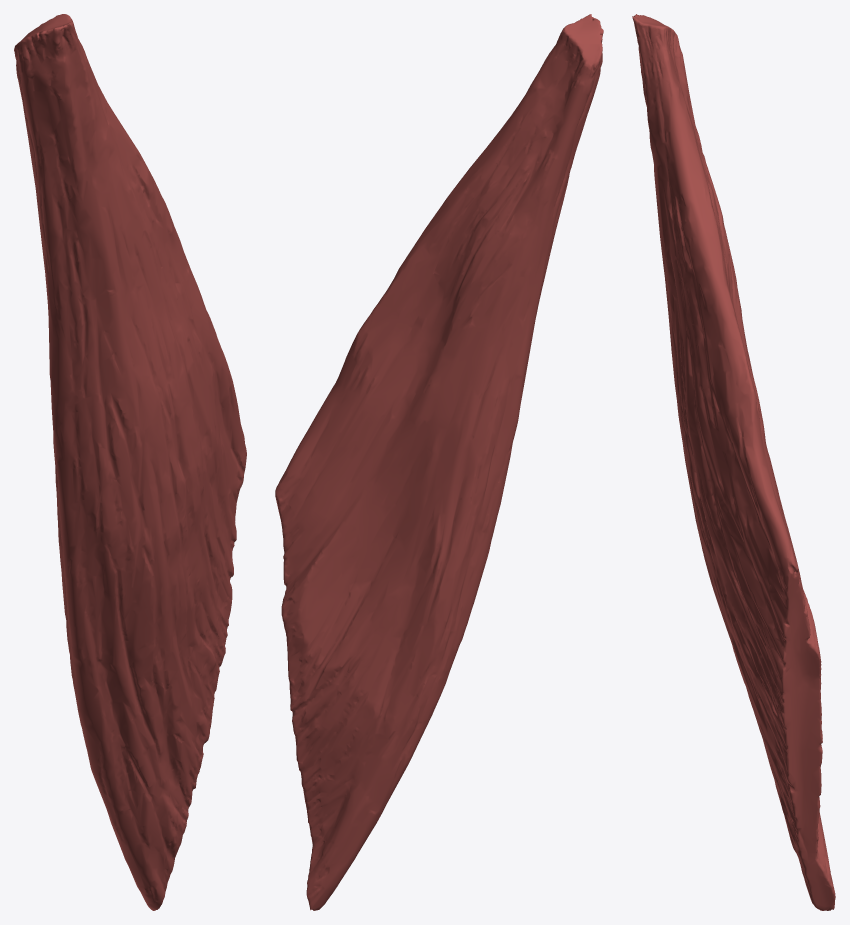
File: FMA22457.glb
3 views of the same model, side by side, from view 1: azimuth 30°, elevation 25°; view 2: azimuth 150°, elevation 25°; view 3: azimuth 270°, elevation 25° (orthographic). The views are drawn at different scales.
Visible parts, largest first — view 1: FMA22457; view 2: FMA22457; view 3: FMA22457.
Boxes of the visible parts, x1,y1,x2,y2 form: FMA22457: (14,14,246,910); FMA22457: (275,14,603,910); FMA22457: (632,14,835,910).
Bounding box in the file's own units: 0.0804 × 0.2563 × 0.0579.
